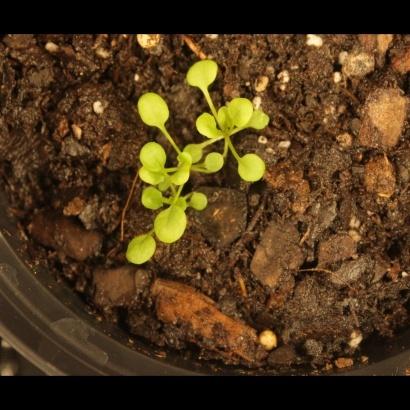leaf: (134, 90, 173, 132), (156, 205, 193, 244), (224, 98, 261, 134), (167, 153, 200, 190), (185, 57, 221, 90), (126, 233, 158, 267), (236, 154, 268, 185), (139, 144, 170, 176), (194, 113, 224, 145), (178, 141, 207, 170), (136, 163, 168, 186), (139, 187, 168, 210), (245, 109, 270, 134), (206, 151, 229, 178), (212, 106, 237, 130), (191, 193, 214, 216)
